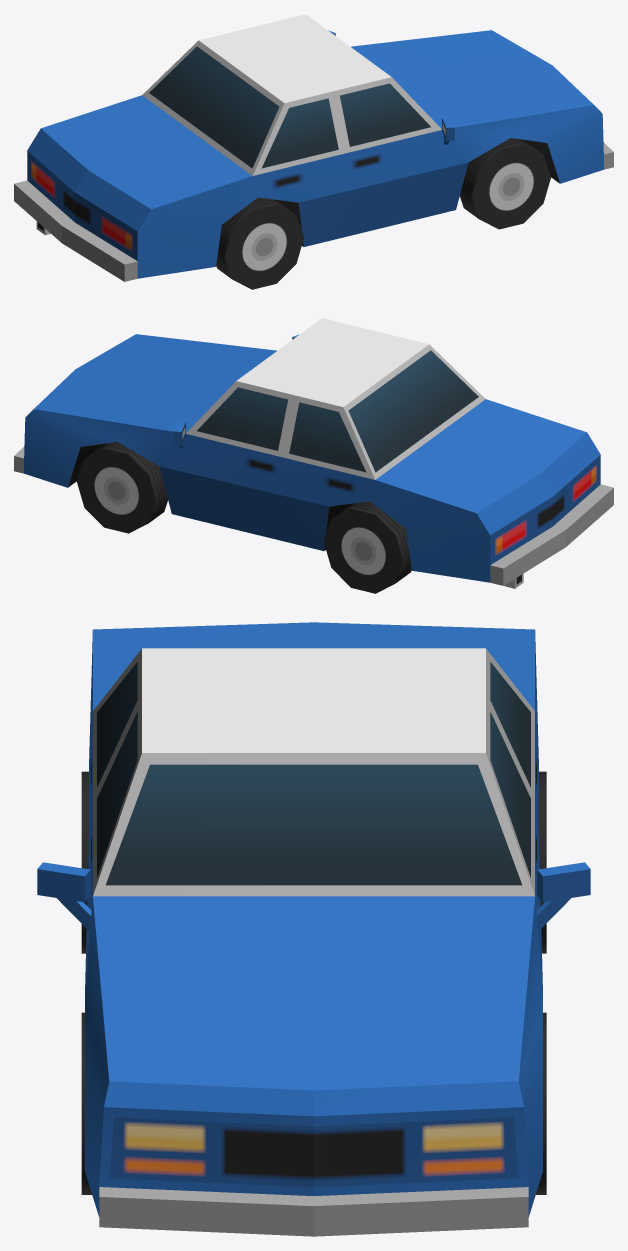
The model's file is Car_154.glb.
3 views of the same model, one above another, from view 1: azimuth 30°, elevation 25°; view 2: azimuth 150°, elevation 25°; view 3: azimuth 270°, elevation 25° (orthographic). The views are drawn at different scales.
Visible parts, largest first — view 1: Car_154, wheel_1_Car_154_Wheel_1R, wheel_3_Car_154_Wheel_2R; view 2: Car_154, wheel_0_Car_154_Wheel_1L, wheel_2_Car_154_Wheel_2L; view 3: Car_154, wheel_2_Car_154_Wheel_2L, wheel_3_Car_154_Wheel_2R, wheel_0_Car_154_Wheel_1L, wheel_1_Car_154_Wheel_1R.
Boxes of the visible parts, x1,y1,x2,y2 form: Car_154: (14, 14, 613, 281); wheel_1_Car_154_Wheel_1R: (460, 138, 550, 229); wheel_3_Car_154_Wheel_2R: (216, 197, 303, 289); Car_154: (14, 318, 613, 588); wheel_0_Car_154_Wheel_1L: (76, 442, 167, 533); wheel_2_Car_154_Wheel_2L: (323, 501, 411, 593); Car_154: (37, 622, 590, 1236); wheel_2_Car_154_Wheel_2L: (539, 771, 546, 953); wheel_3_Car_154_Wheel_2R: (81, 771, 88, 953); wheel_0_Car_154_Wheel_1L: (536, 1012, 546, 1194); wheel_1_Car_154_Wheel_1R: (81, 1012, 91, 1194).
Size of the model in its own units: 4.5 by 1.39 by 2.12.
1 material, 1 textured.
